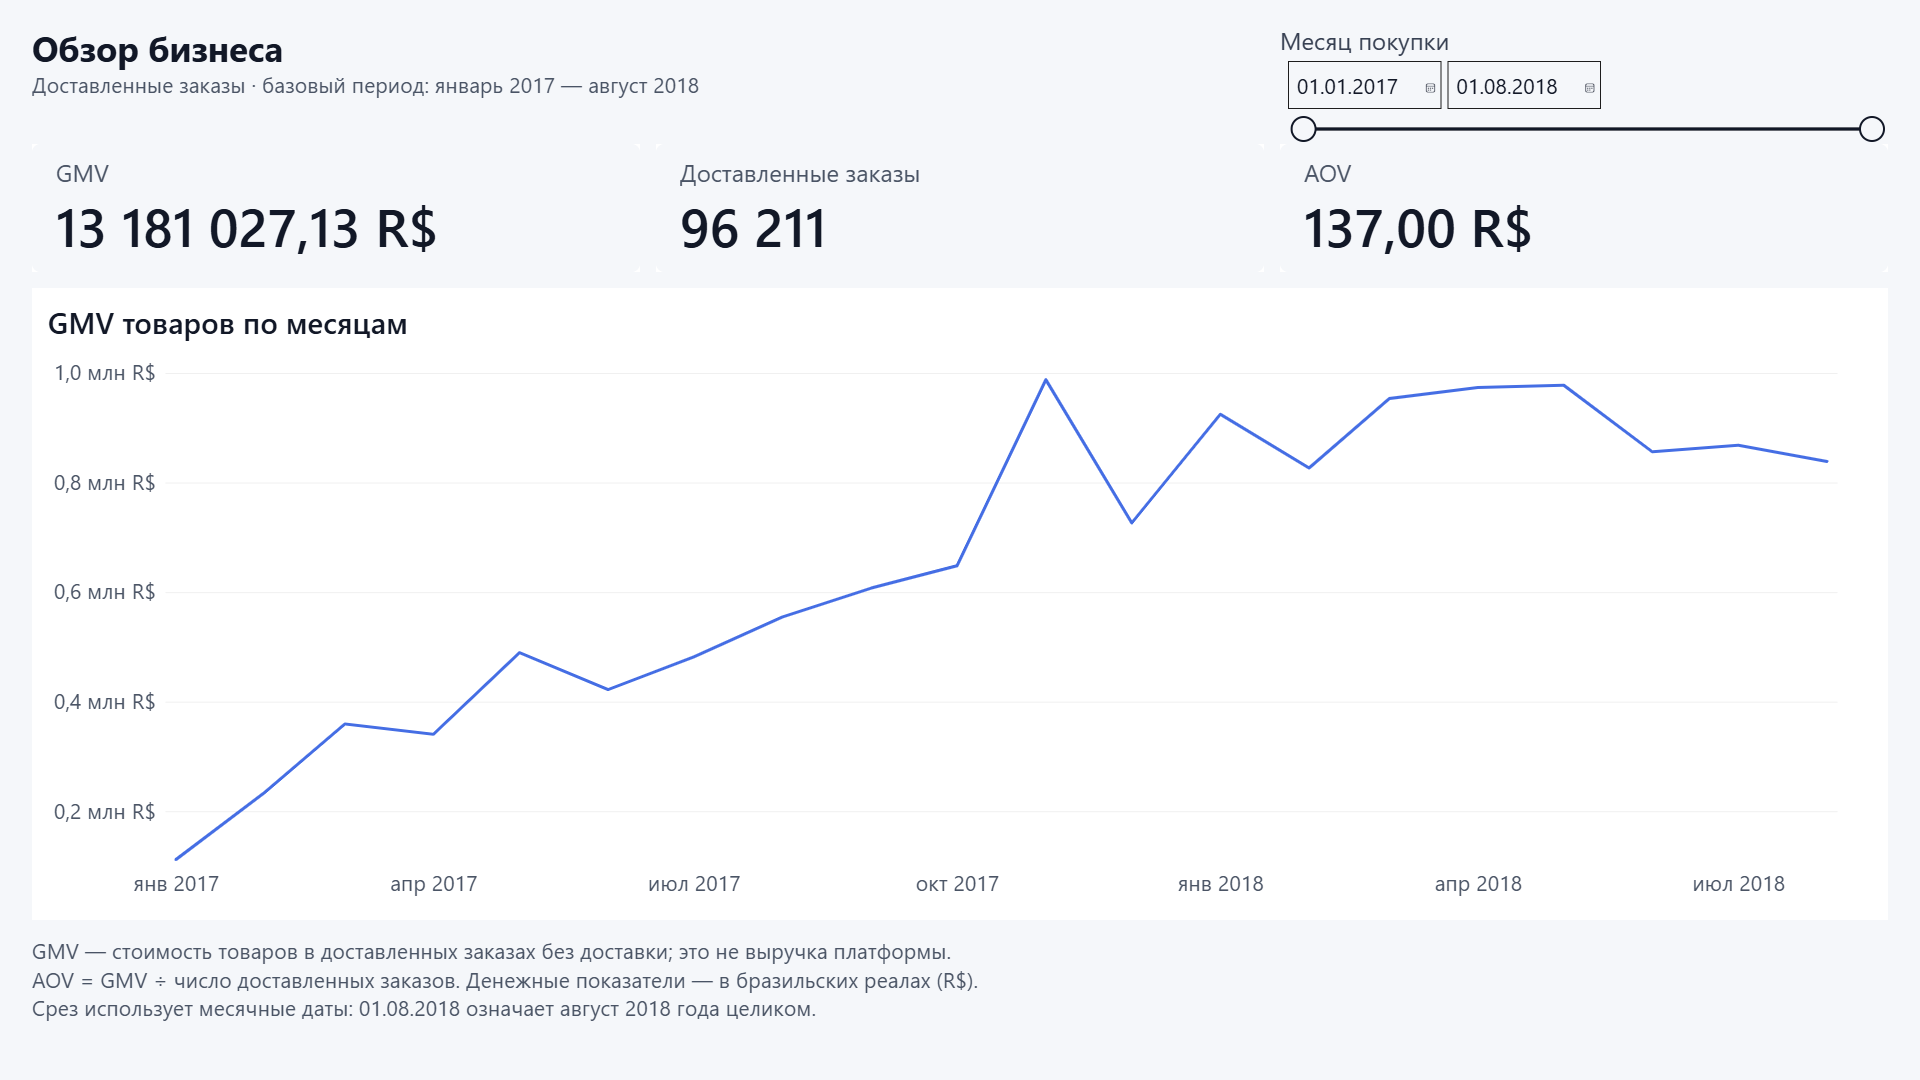

Layout of this report page (visuals, bound fields, positions):
{"tool":"powerbi","page":{"name":"Обзор бизнеса","canvas":[1920,1080],"ordinal":0},"visuals":[{"type":"textbox","box":[32,24,1136,104],"z":0},{"type":"slicer","title":"Месяц покупки","fields":{"Values":["a_monthly.month"]},"box":[1280,24,608,120],"z":1},{"type":"cardVisual","fields":{"Data":["a_monthly.GMV"]},"box":[32,144,608,128],"z":2},{"type":"cardVisual","fields":{"Data":["a_monthly.Доставленные заказы"]},"box":[656,144,608,128],"z":3},{"type":"cardVisual","fields":{"Data":["a_monthly.AOV"]},"box":[1280,144,608,128],"z":4},{"type":"lineChart","title":"GMV товаров по месяцам","fields":{"Category":["a_monthly.month"],"Y":["a_monthly.GMV"]},"box":[32,288,1856,632],"z":5},{"type":"textbox","box":[32,936,1856,112],"z":6}]}

Visuals, with their boxes in screenshot pixels (x1, y1, x2, y2), scaled from the page's 1920x1080 canvas onto the 1920x1080 screenshot:
textbox: detection(32, 24, 1168, 128)
"Месяц покупки" slicer: detection(1280, 24, 1888, 144)
cardVisual - a_monthly.GMV: detection(32, 144, 640, 272)
cardVisual - a_monthly.Доставленные заказы: detection(656, 144, 1264, 272)
cardVisual - a_monthly.AOV: detection(1280, 144, 1888, 272)
"GMV товаров по месяцам" lineChart: detection(32, 288, 1888, 920)
textbox: detection(32, 936, 1888, 1048)
